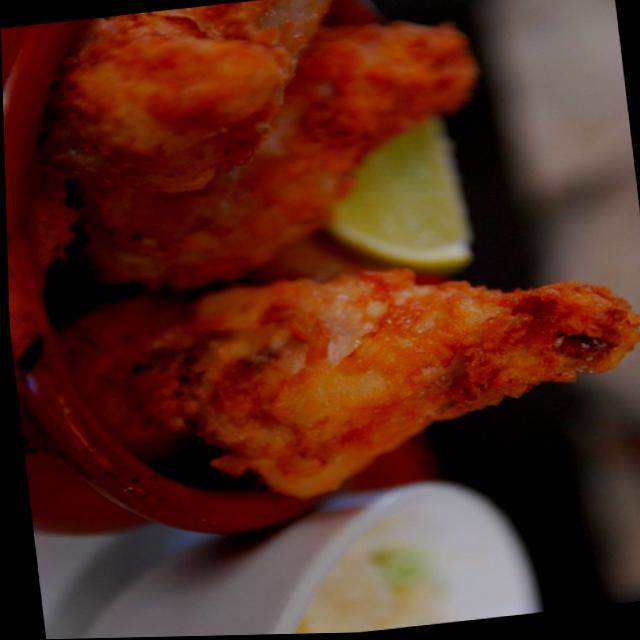鸡肉料理 含炸鸡: (4, 0, 640, 525)
